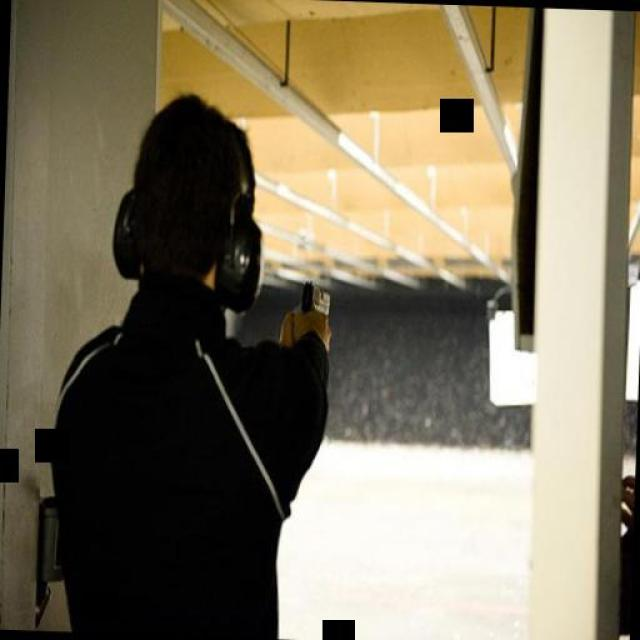gun: (299, 279, 330, 319)
